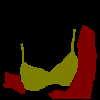abbigliamento: (48, 25, 97, 99), (3, 71, 25, 94)
reggiseno: (20, 29, 78, 91)
